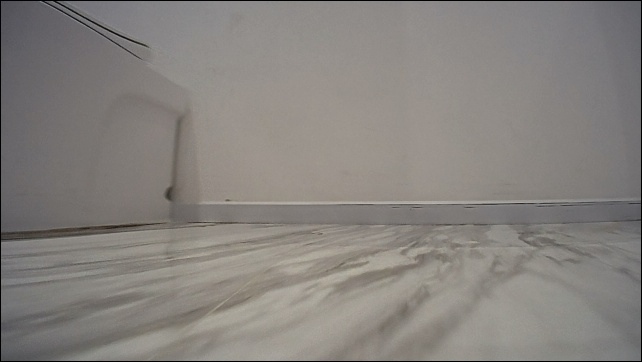toilet: (0, 0, 188, 240)
